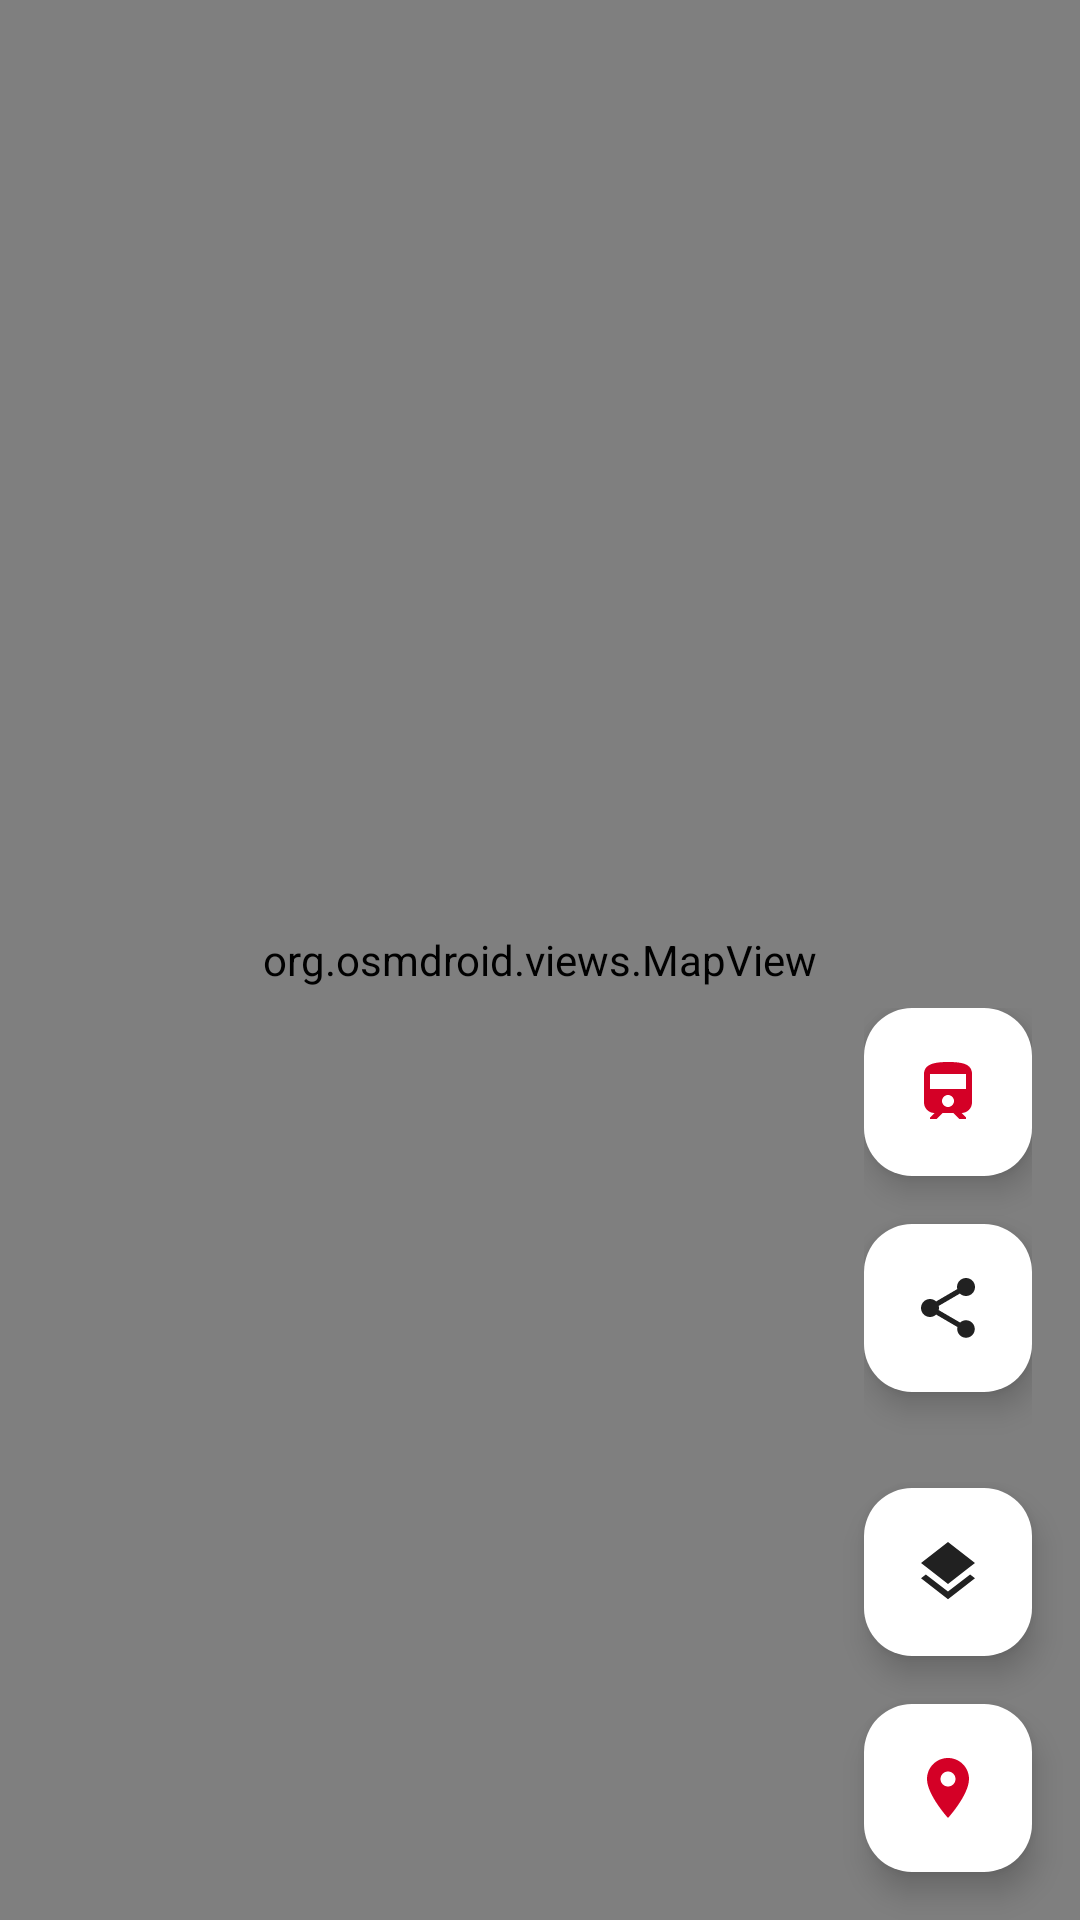

Locate icon controls on the screen. Image size 1080×1920, boxes as region(x1, y1, x2, y2).
Centrar mapa: region(864, 1704, 1032, 1872)
Compartir Ubicación: region(864, 1224, 1032, 1392)
Estado del Metro: region(864, 1008, 1032, 1176)
Filtros: region(864, 1488, 1032, 1656)
